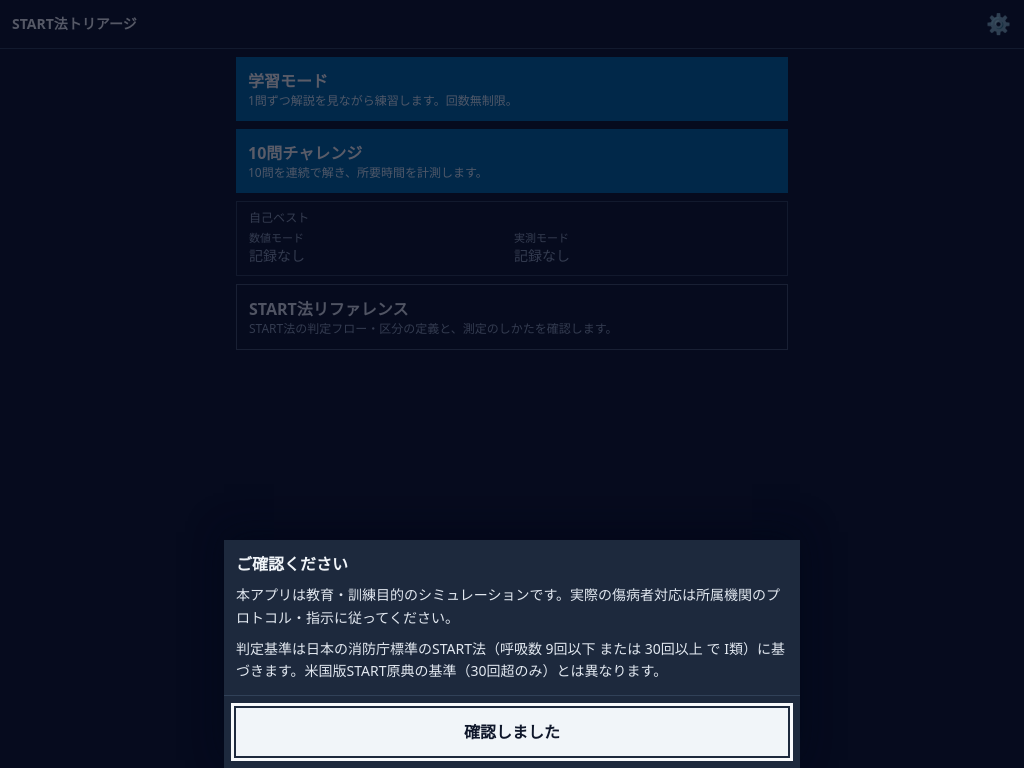
Test: 言語切替 (docs/I18N.md §4) › 英語UIでも採用基準が日本の消防庁標準であることを明示する (I18N.md §2)
The image size is (1024, 768).
Click the button "確認しました". click: x=512, y=732
box: [236,708,788,756]
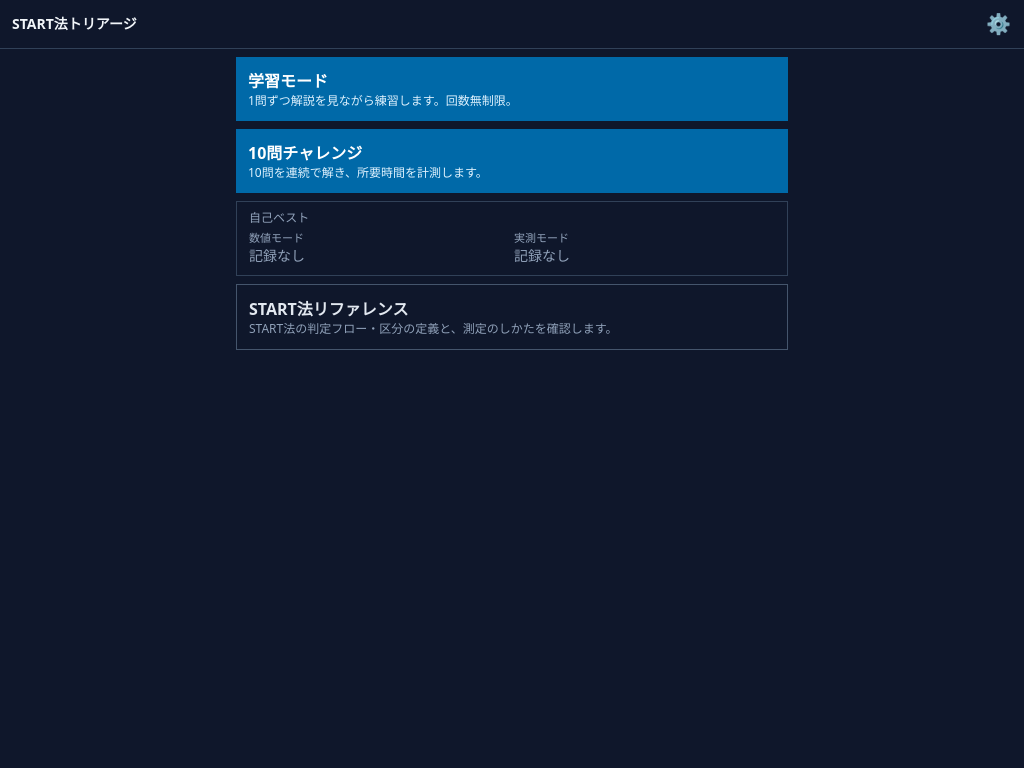
Click the button named "設定を開く". click: x=998, y=24
box: [980,6,1016,42]
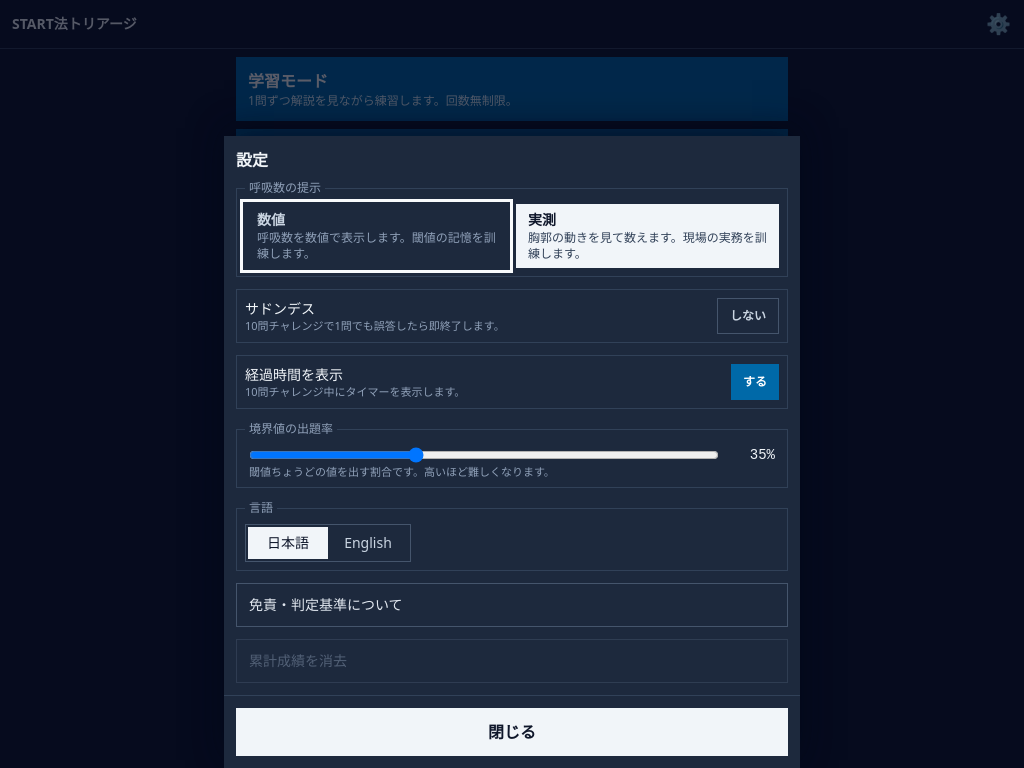
Click the button "English". click: x=368, y=543
box: [328,527,408,559]
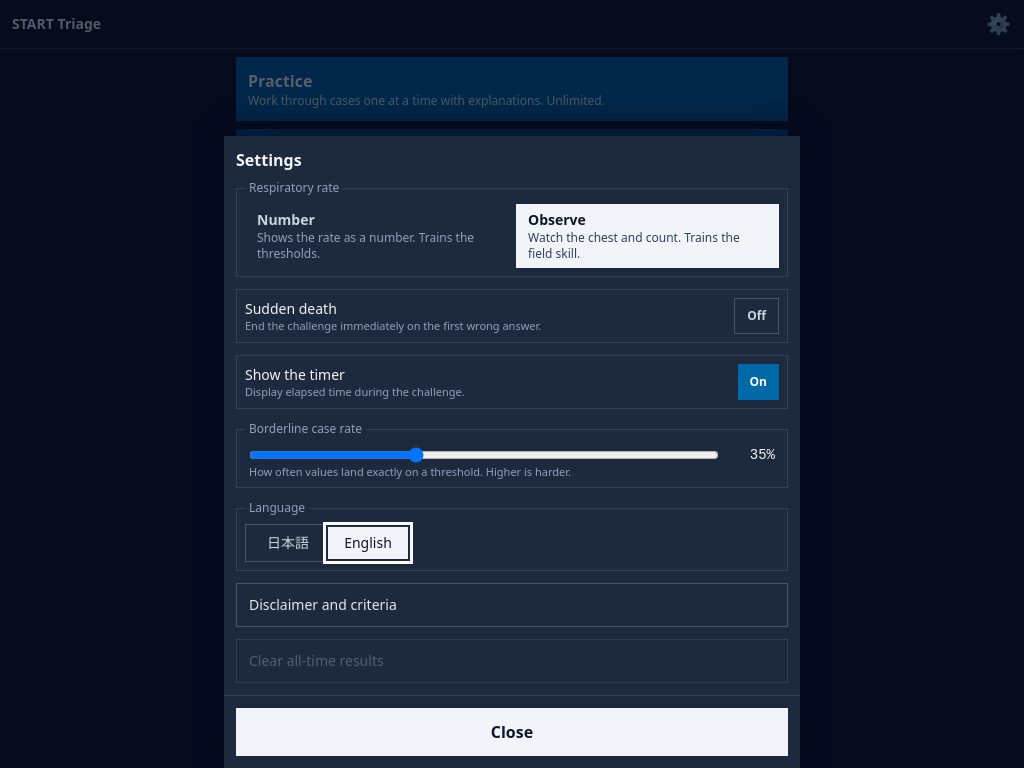
Click the button "Disclaimer and criteria". click: x=323, y=604
box: [236,583,788,627]
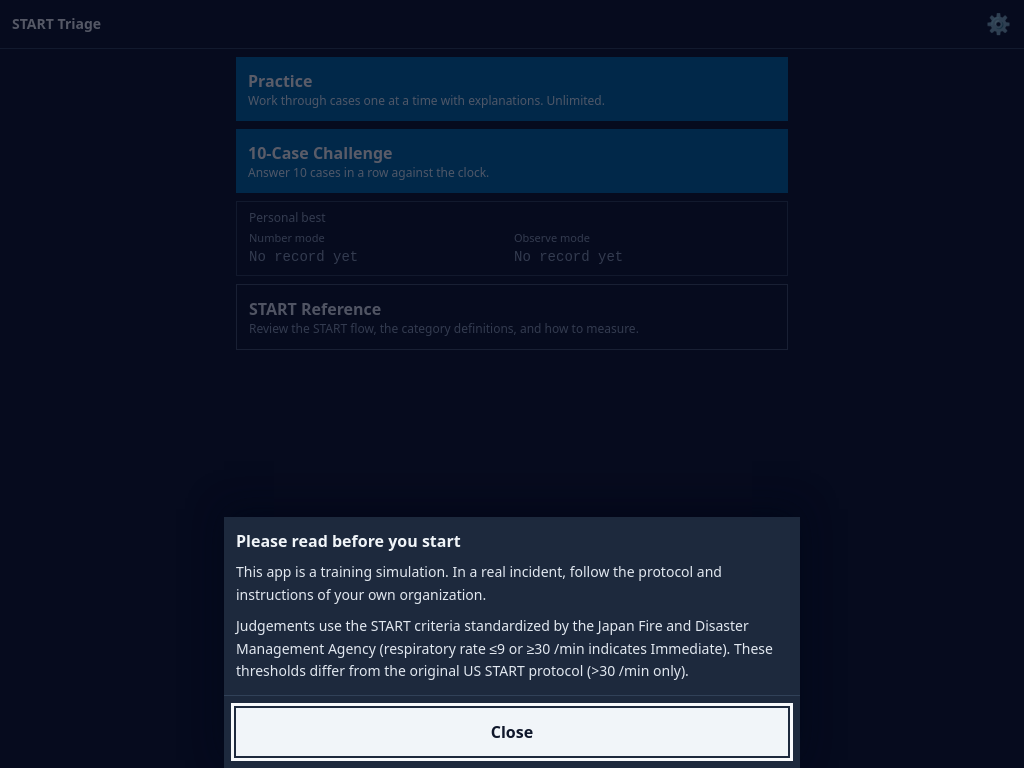
Result: the text "differ from the original US START" is shown at [236,616,773,680]
